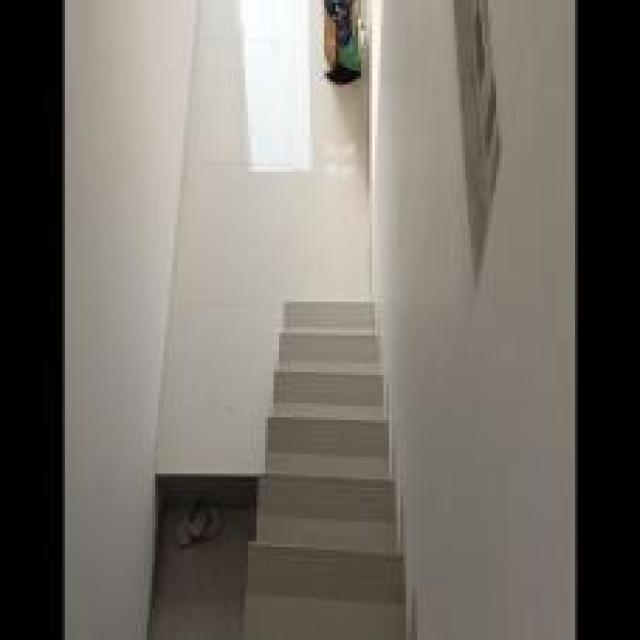downstair: (252, 269, 410, 638)
